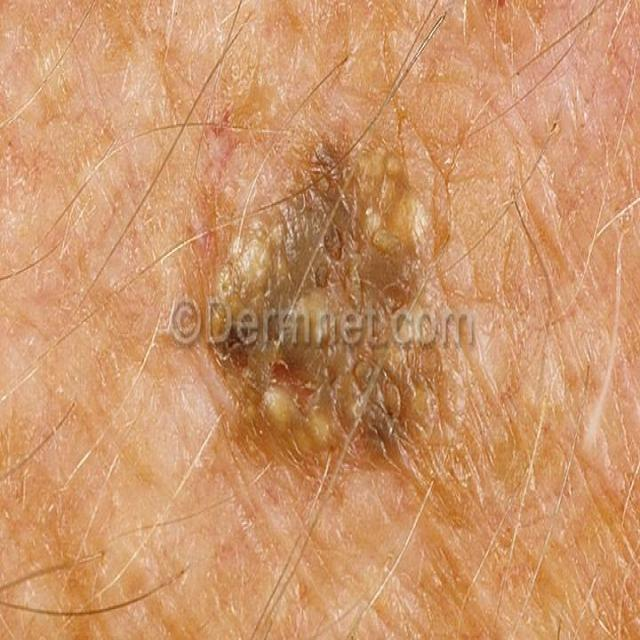Eczema: (161, 115, 478, 523)
